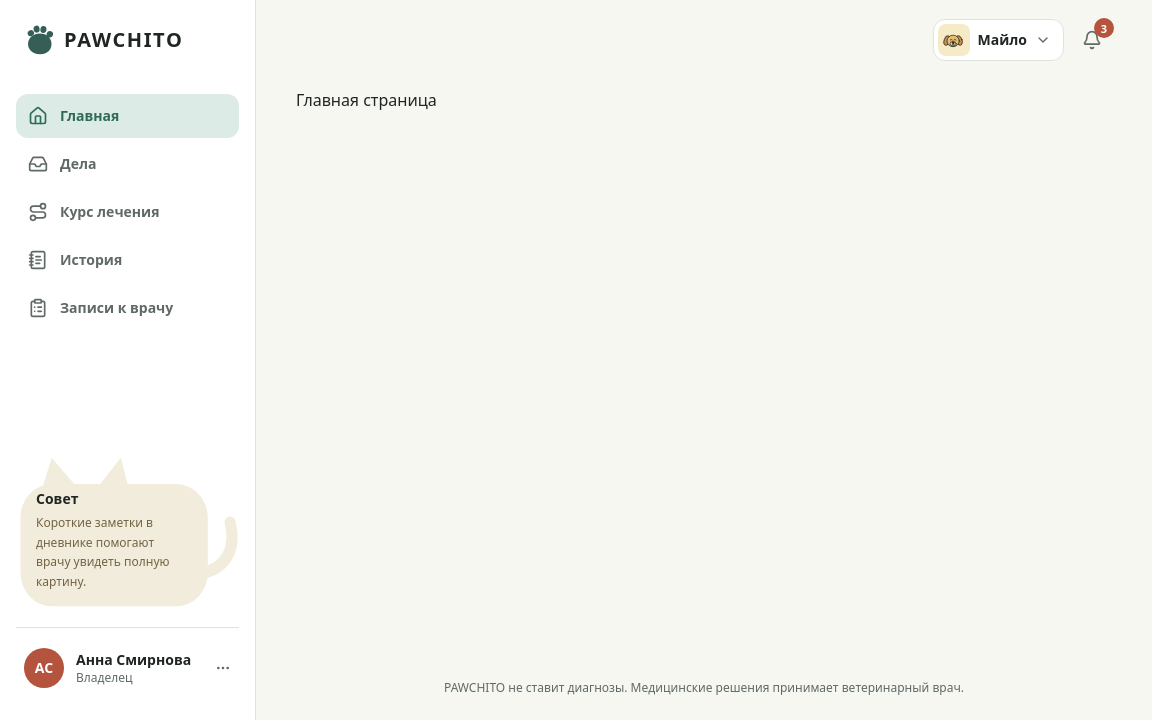
Test case: AppShell › переключатель меняет и запоминает питомца
Click the button with aria-label "Питомец: Майло. Сменить питомца": (998, 40) [933,19,1064,61]
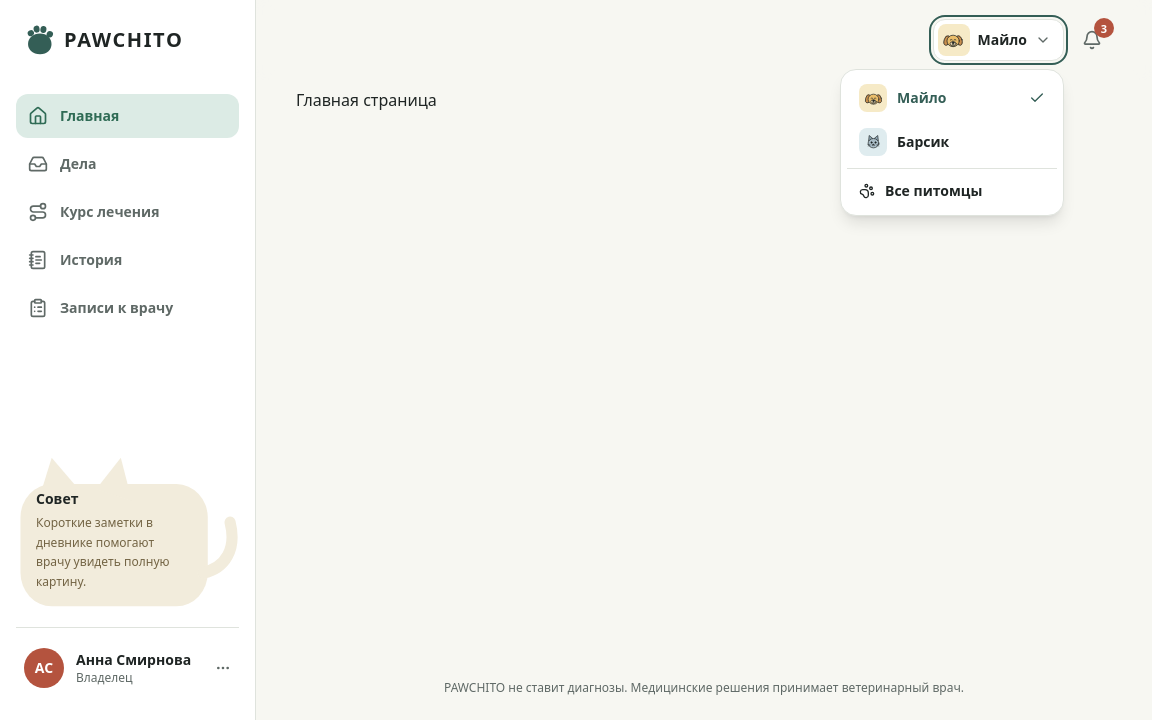
Click the button named "Кошка Барсик": (952, 142) [847,120,1057,164]
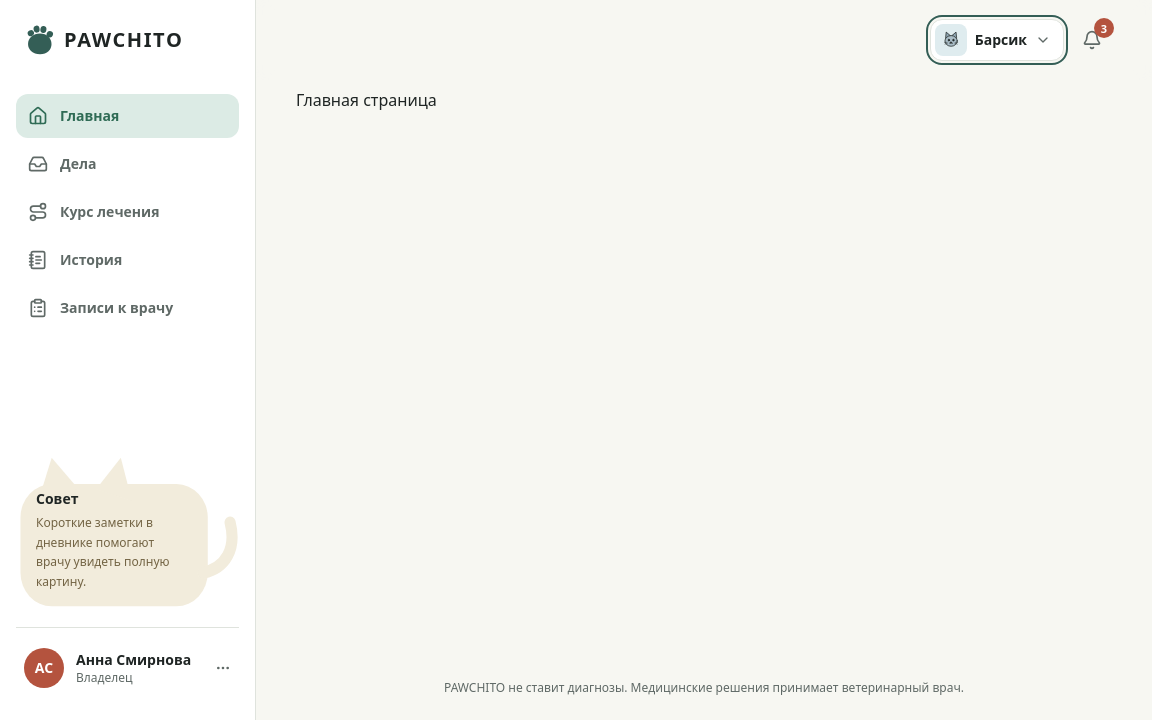
Expected: the button with aria-label "Питомец: Барсик. Сменить питомца" is shown, [930,19,1064,61]
